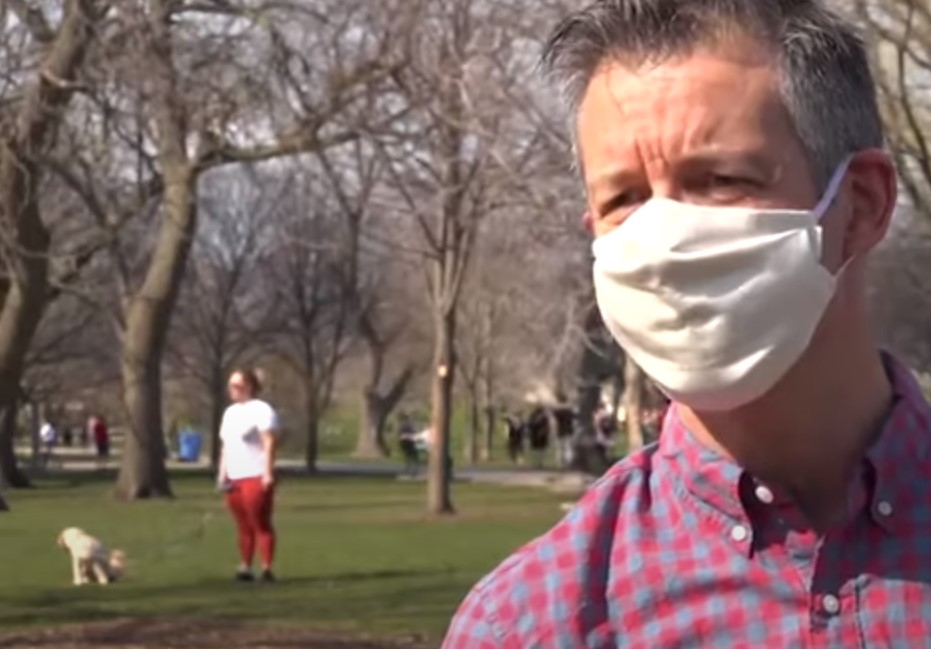face_with_mask: (575, 4, 897, 410)
